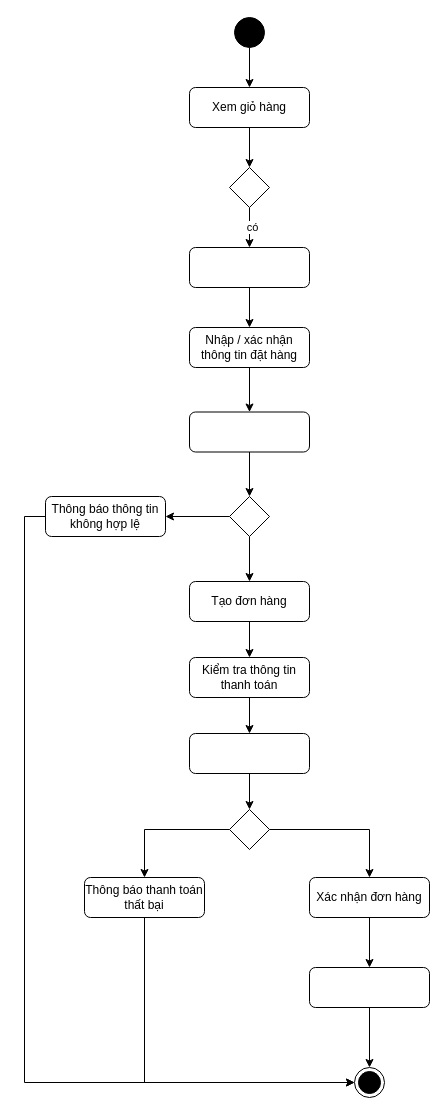
Image size: 447x1115. Some labels were removed from this diagram. The centre of each missing label's shape, as x and y in pixels:
Gửi email xác nhận đơn hàng: (x=369, y=987)
Hệ thống kiểm tra thông tin đơn hàng: (x=249, y=431)
Kiểm tra khả năng thanh toán: (x=249, y=753)
Xác nhận đặt hàng: (x=249, y=267)
